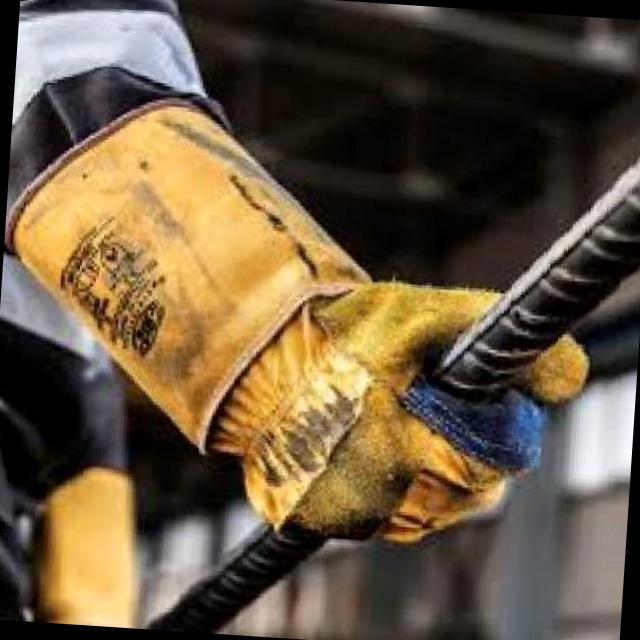gloves: (47, 119, 640, 538)
